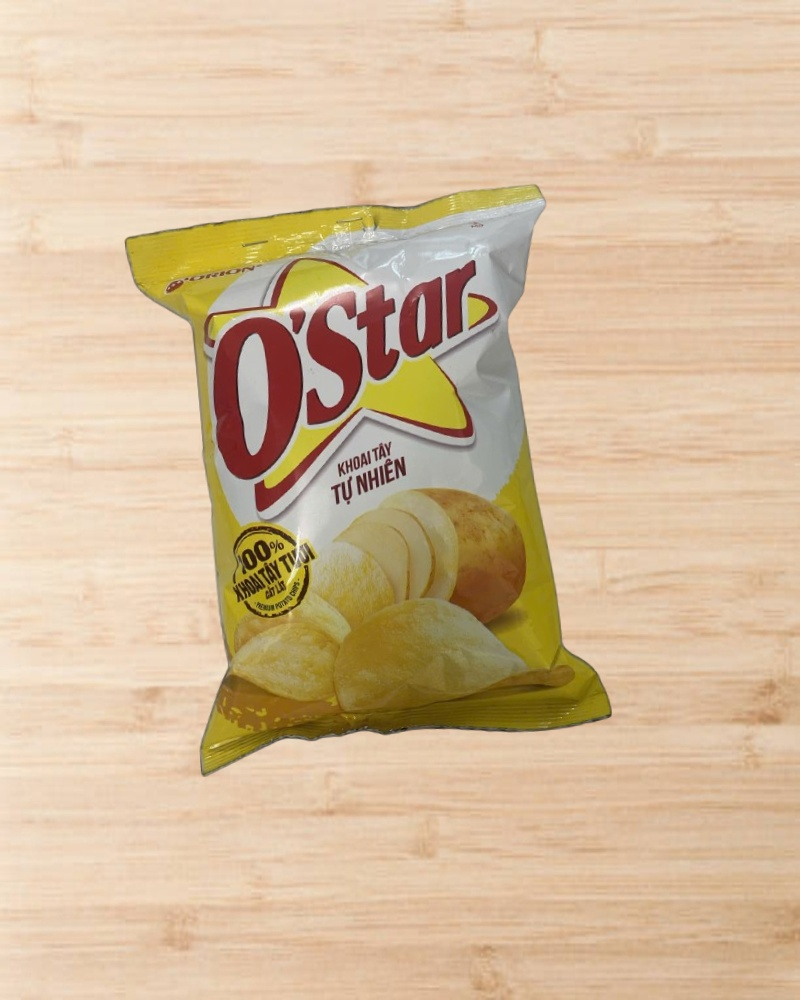O'star: (125, 182, 614, 779)
